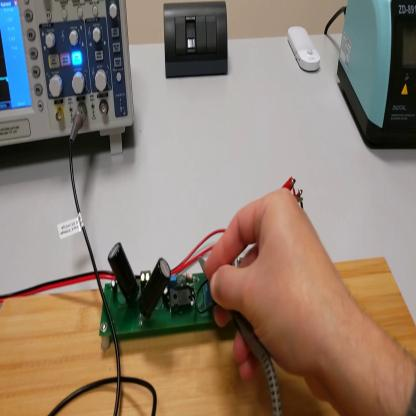hand: (205, 190, 348, 386)
high voltage board: (98, 182, 306, 336)
oscilloscope: (1, 3, 141, 161)
oscilloscope probe tip: (196, 258, 269, 365)
welder station: (338, 2, 416, 153)
working area: (2, 255, 416, 416)
